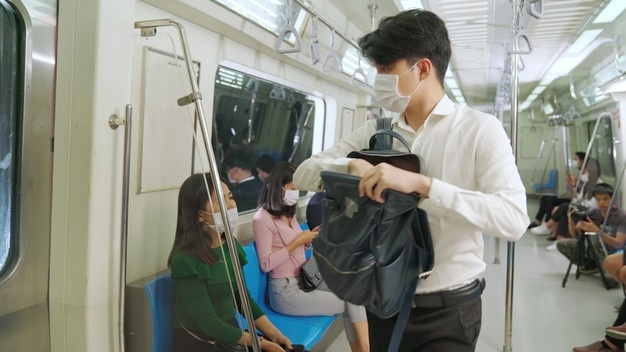with_mask: (370, 53, 424, 114), (205, 186, 240, 233), (278, 177, 298, 204)
without_mask: (594, 192, 611, 211)
